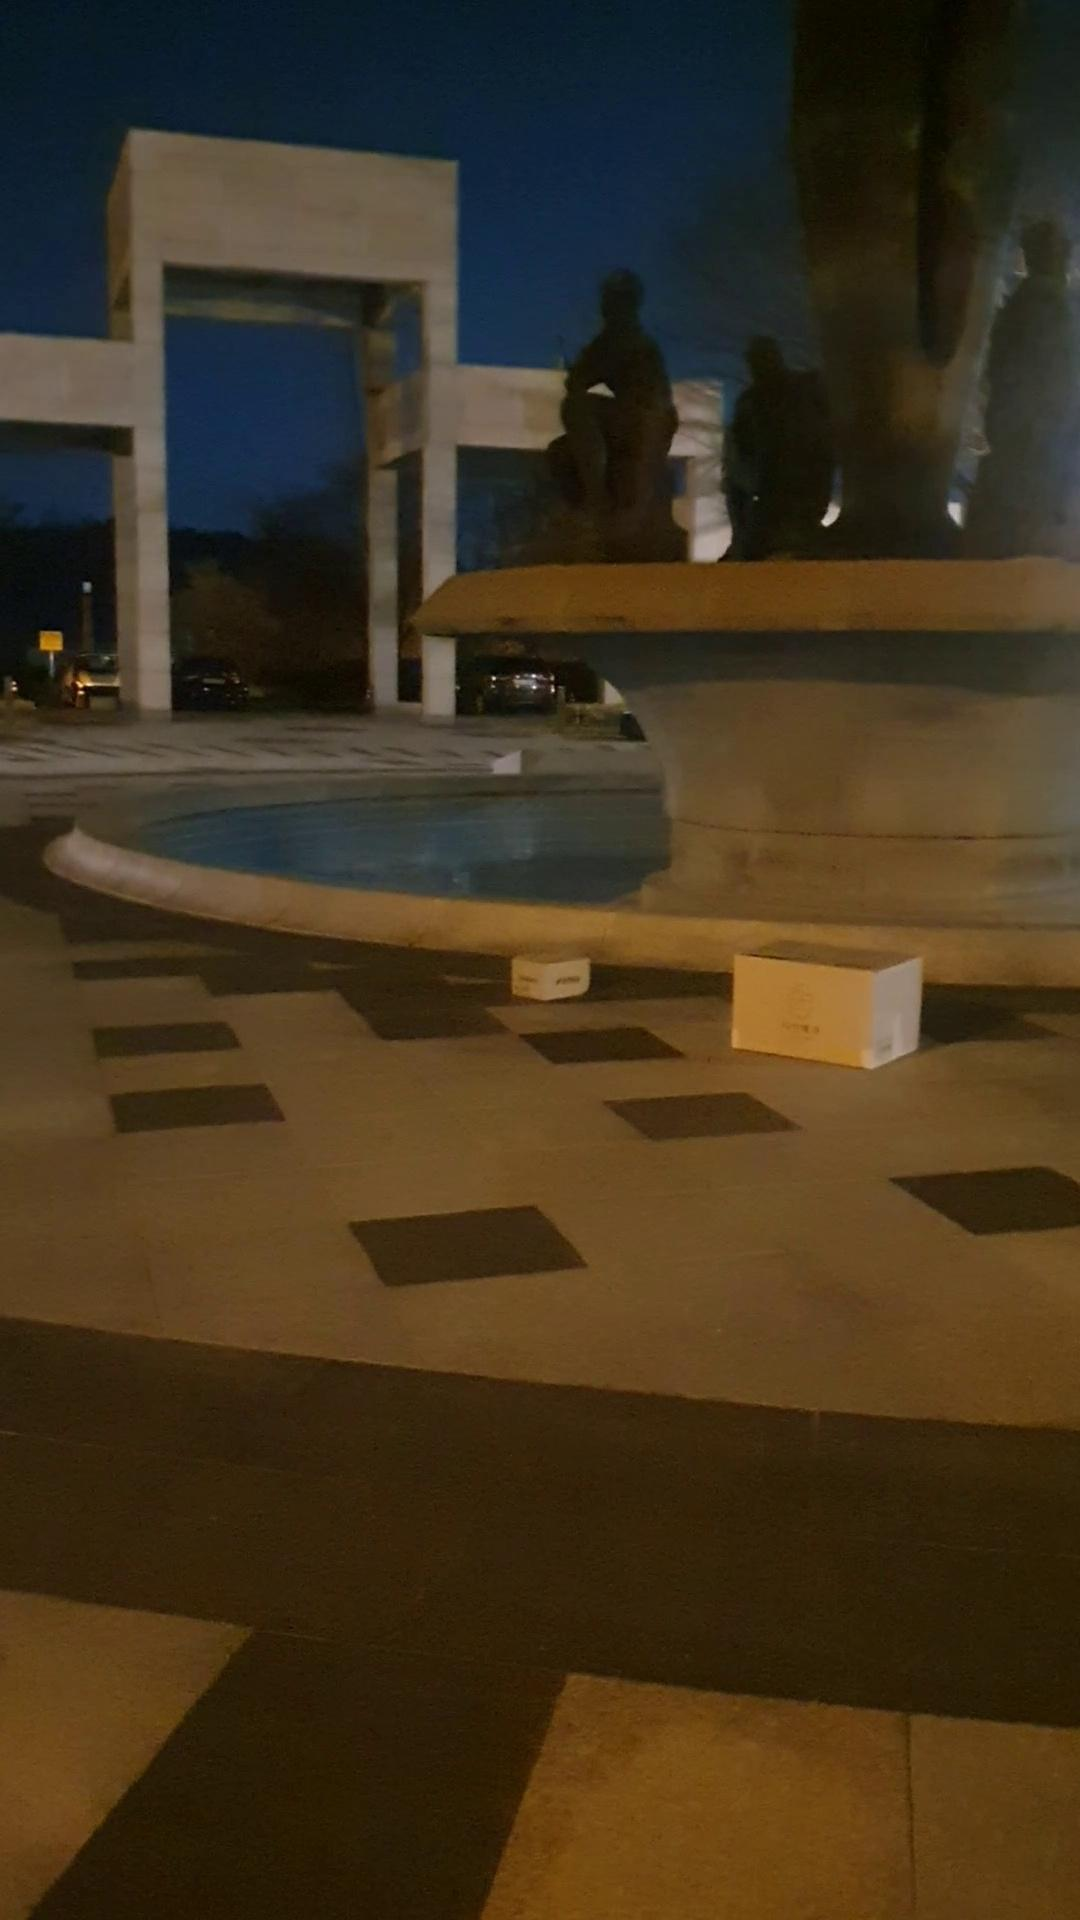Box: (727, 938, 930, 1075), (496, 924, 585, 1015)
